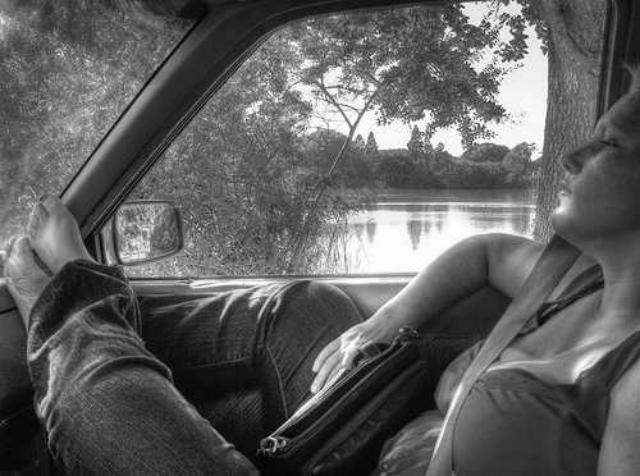Seatbelt: (422, 228, 584, 476)
